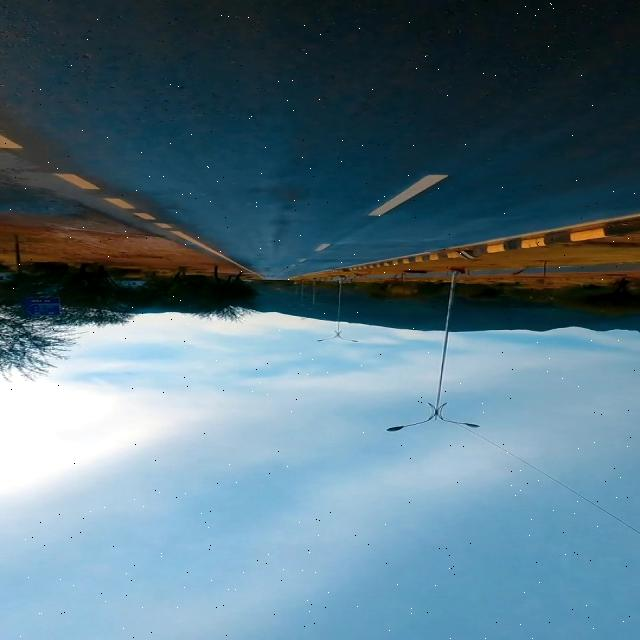lane: (0, 139, 252, 275), (369, 175, 447, 216), (55, 174, 98, 189), (104, 199, 134, 209)
road: (4, 1, 638, 278)
